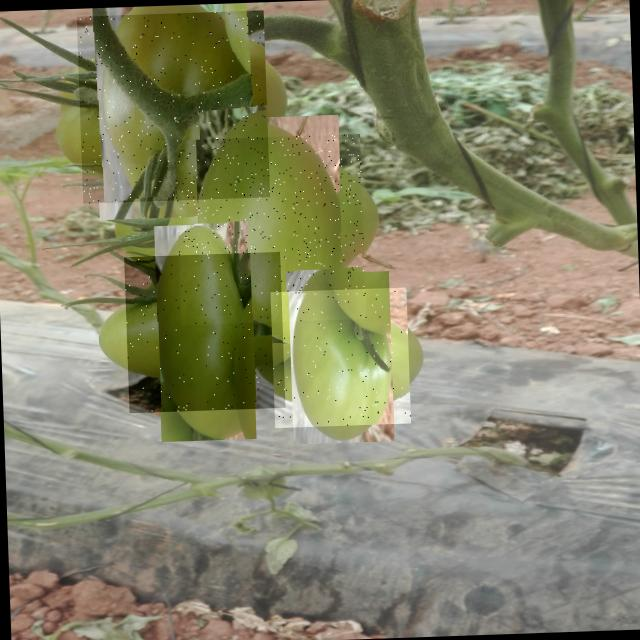Unripe Tomato: (76, 10, 270, 203), (175, 133, 366, 324), (124, 252, 285, 412), (270, 287, 411, 428)
